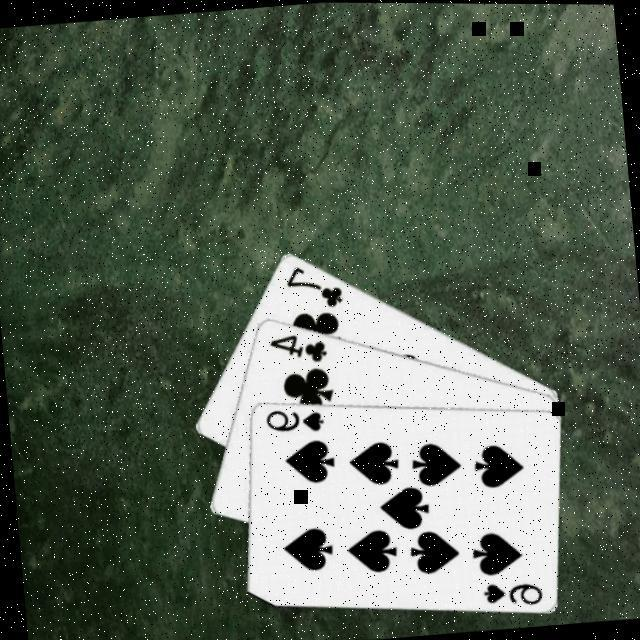4C: (266, 326, 330, 366)
7C: (282, 256, 346, 310)
9S: (480, 572, 545, 608), (262, 399, 328, 434)
